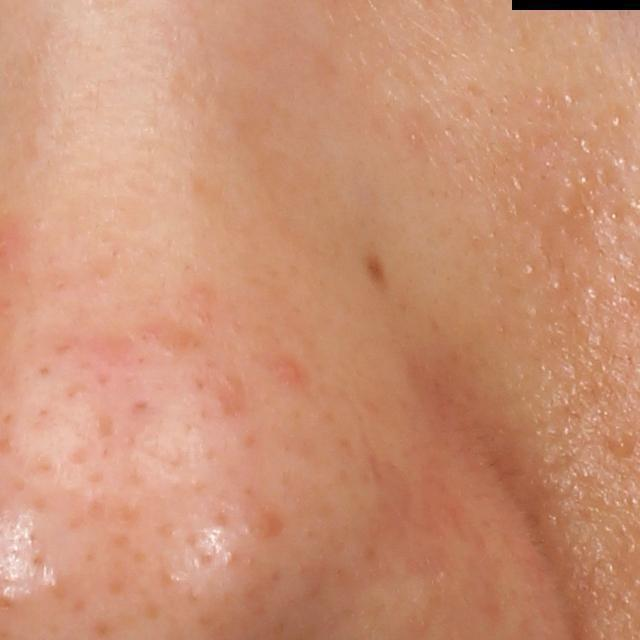comedo: (608, 430, 635, 458)
nevus: (362, 251, 393, 291)
